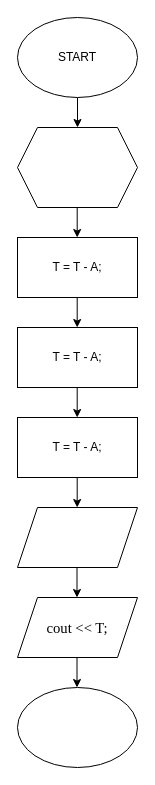
Image size: 155x785. Some labels were removed from this diagram. The shapes that lost their labels are listed below. From the top down, each one's centre as x and y in pixels, then its label:
At pixel 77 167: "int A = 5; int T = 20;".
At pixel 77 537: "cout << A << endl;".
At pixel 77 727: "END".
